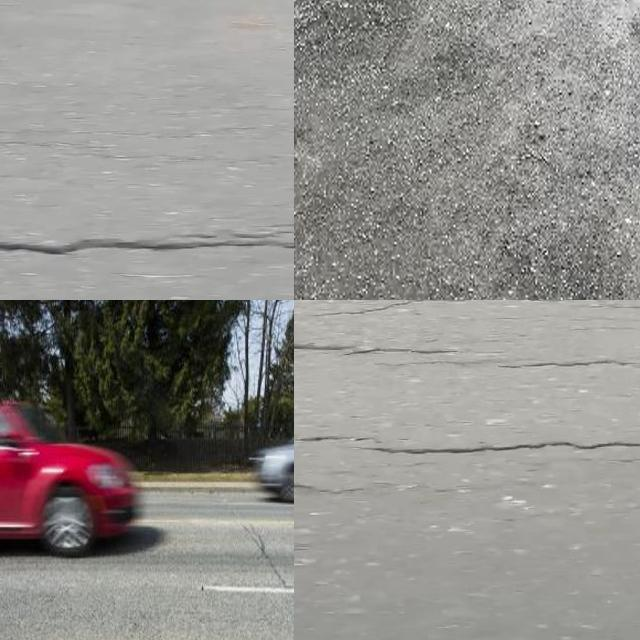Melintang: (294, 330, 640, 382), (0, 212, 294, 268), (294, 421, 640, 468)
